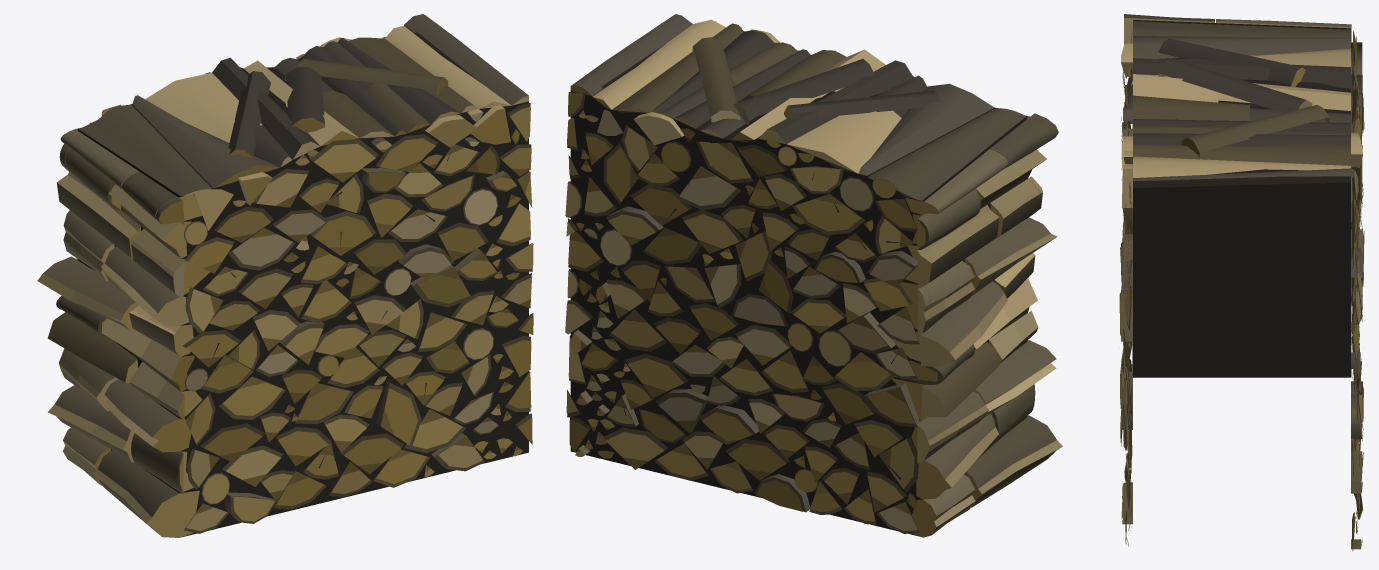
File: cordwood_start.glb
The picture shows the model from 3 angles, left to right: view 1: azimuth 30°, elevation 25°; view 2: azimuth 150°, elevation 25°; view 3: azimuth 270°, elevation 25°; orthographic projection. The views are drawn at different scales.
Visible parts, largest first — view 1: Cordwood; view 2: Cordwood; view 3: Cordwood.
Part boxes in pixels (<box>): Cordwood: <box>37,14,533,537</box>; Cordwood: <box>565,14,1062,537</box>; Cordwood: <box>1119,14,1364,551</box>.
Bounding box in the file's own units: 2 × 1.8 × 1.
